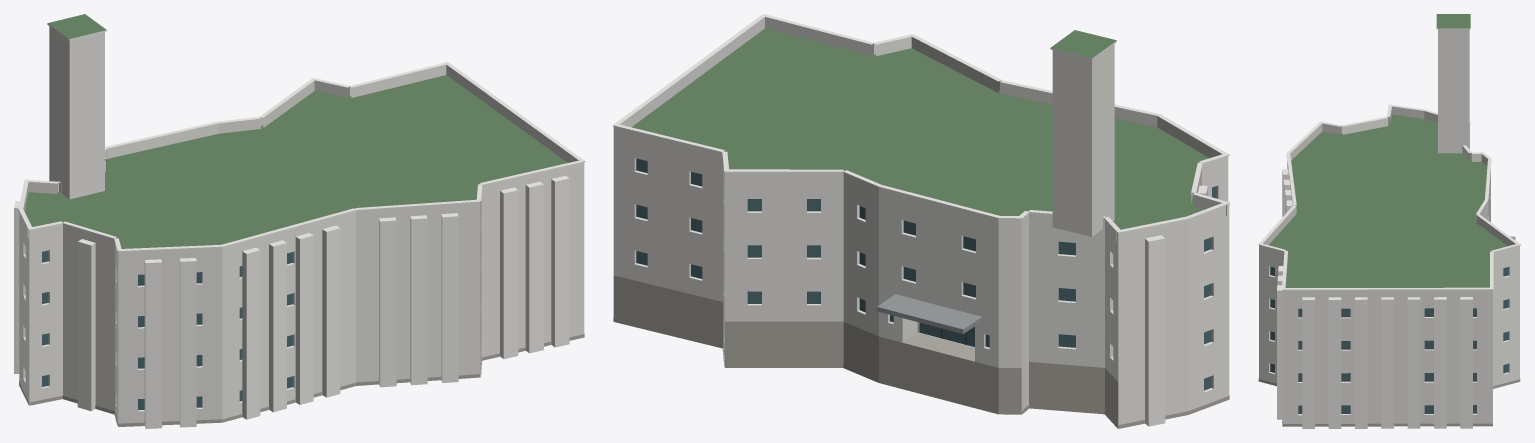
The picture shows the model from 3 angles, left to right: view 1: azimuth 30°, elevation 25°; view 2: azimuth 150°, elevation 25°; view 3: azimuth 270°, elevation 25°; orthographic projection. The views are drawn at different scales.
Visible parts, largest first — view 1: intlEducation__wall, intlEducation__roof, intlEducation__trim, intlEducation__parapet, intlEducation__base, intlEducation__glass; view 2: intlEducation__wall, intlEducation__roof, intlEducation__base, intlEducation__parapet, intlEducation__trim, intlEducation__glass, intlEducation__canopy; view 3: intlEducation__roof, intlEducation__wall, intlEducation__trim, intlEducation__parapet, intlEducation__glass, intlEducation__base.
Part boxes in pixels (left/top/right/bottom): intlEducation__wall: left=19, top=26, right=584, bottom=426; intlEducation__roof: left=24, top=14, right=567, bottom=248; intlEducation__trim: left=14, top=23, right=584, bottom=428; intlEducation__parapet: left=19, top=64, right=584, bottom=260; intlEducation__base: left=19, top=334, right=584, bottom=426; intlEducation__glass: left=42, top=250, right=292, bottom=410; intlEducation__wall: left=613, top=44, right=1229, bottom=428; intlEducation__roof: left=632, top=28, right=1209, bottom=414; intlEducation__base: left=613, top=275, right=1229, bottom=428; intlEducation__parapet: left=613, top=17, right=1229, bottom=243; intlEducation__trim: left=613, top=14, right=1229, bottom=426; intlEducation__glass: left=636, top=158, right=1216, bottom=390; intlEducation__canopy: left=876, top=294, right=982, bottom=333; intlEducation__roof: left=1269, top=14, right=1507, bottom=426; intlEducation__wall: left=1259, top=29, right=1519, bottom=423; intlEducation__trim: left=1258, top=28, right=1520, bottom=428; intlEducation__parapet: left=1259, top=106, right=1519, bottom=297; intlEducation__glass: left=1270, top=266, right=1508, bottom=413; intlEducation__base: left=1258, top=378, right=1520, bottom=426.
Size of the model in its own units: 44.84 by 28.42 by 26.52.
